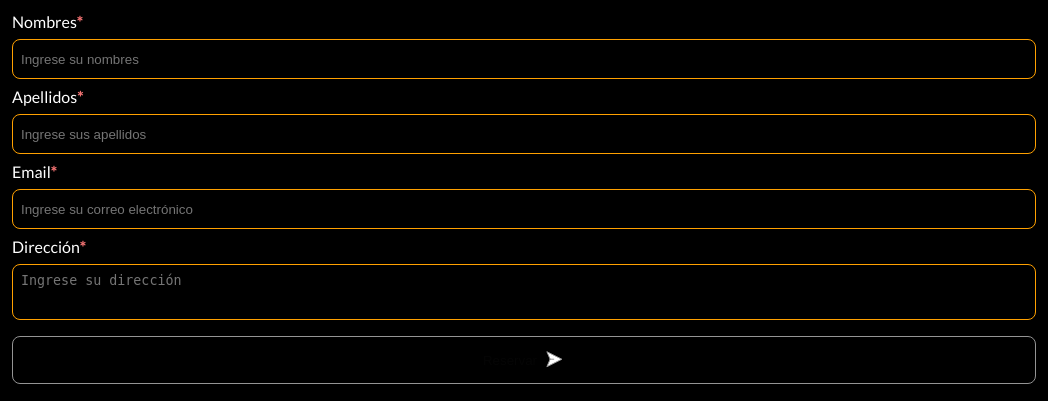
Test: Testing: CustomerForm › fills customer form
Expected: the field with placeholder "Ingrese sus apellidos" is shown, [12,114,1036,154]
Expected: the field with placeholder "Ingrese su correo electrónico" is shown, [12,189,1036,229]
In the field with placeholder "Ingrese su nombres": (524, 59) [12,39,1036,79], type "Alejandro"
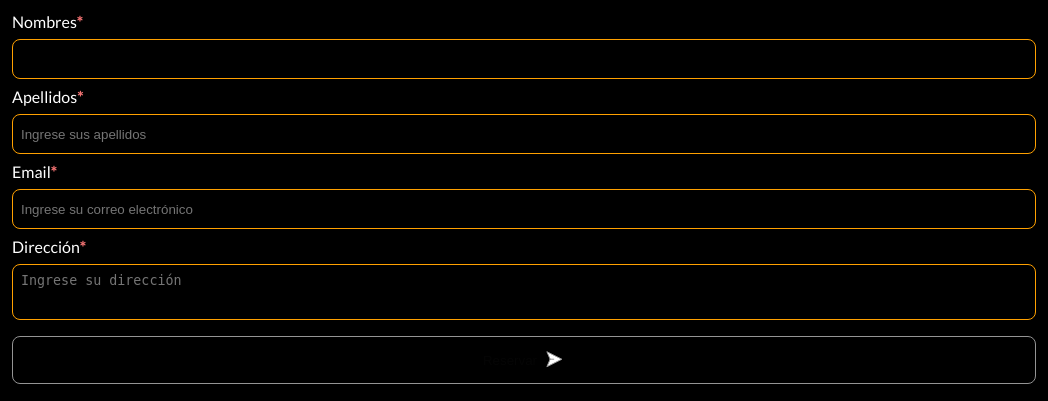
In the field with placeholder "Ingrese sus apellidos": (524, 134) [12,114,1036,154], type "Coca"
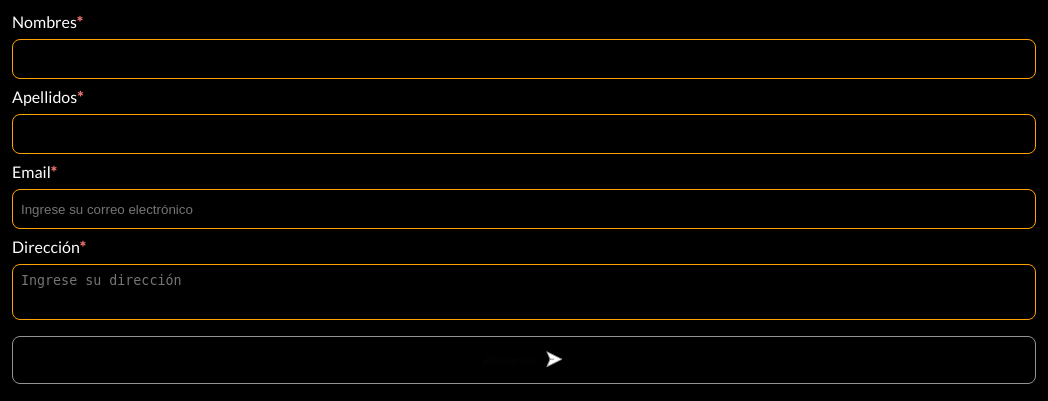
In the field with placeholder "Ingrese su correo electrónico": (524, 209) [12,189,1036,229], type "alejandro@coca.com"
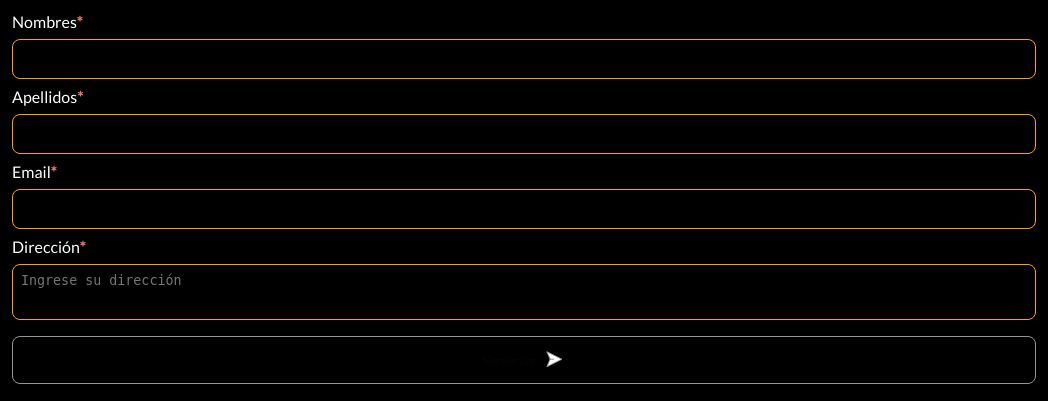
In the text box with placeholder "Ingrese su dirección": (524, 292) [12,264,1036,320], type "Calle 123"
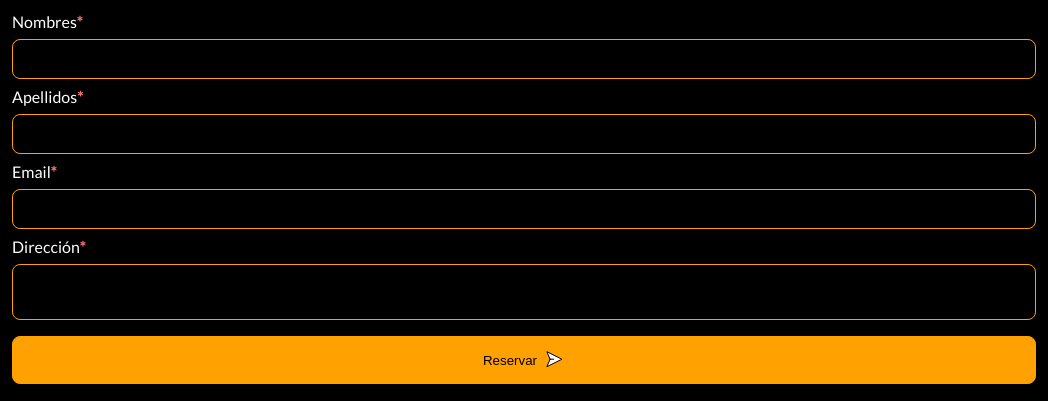
Result: the button "Reservar" is enabled at [12,336,1036,384]
